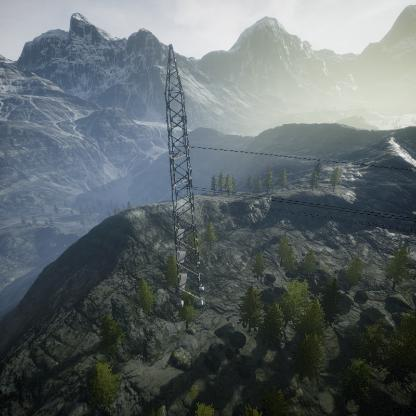tower: (161, 42, 209, 312)
